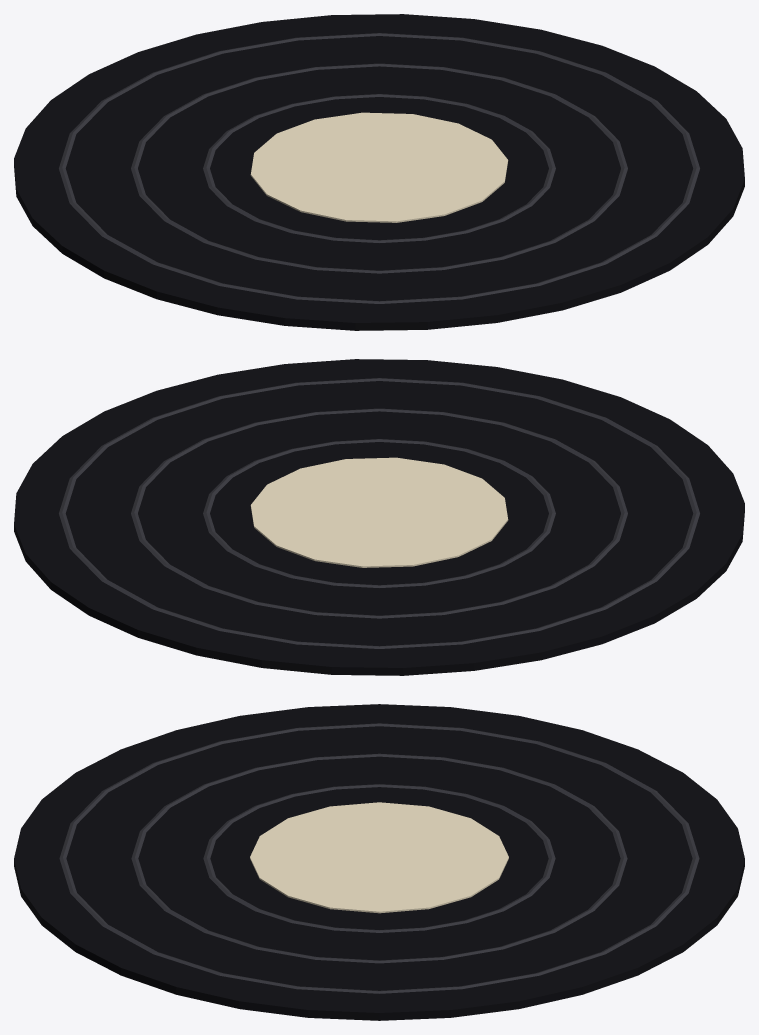
Rendered from Prop_YTM_Record_Whole.glb.
The picture shows the model from 3 angles, top to bottom: view 1: azimuth 30°, elevation 25°; view 2: azimuth 150°, elevation 25°; view 3: azimuth 270°, elevation 25°; orthographic projection.
Visible parts, largest first — view 1: Prop_YTM_Record_Whole; view 2: Prop_YTM_Record_Whole; view 3: Prop_YTM_Record_Whole.
Part boxes in pixels (bbox=[...]): Prop_YTM_Record_Whole: bbox=[14, 14, 744, 330]; Prop_YTM_Record_Whole: bbox=[14, 359, 744, 675]; Prop_YTM_Record_Whole: bbox=[14, 704, 744, 1020].
Size of what is drawn, in the model's own units: 0.254 by 0.0036 by 0.254.
